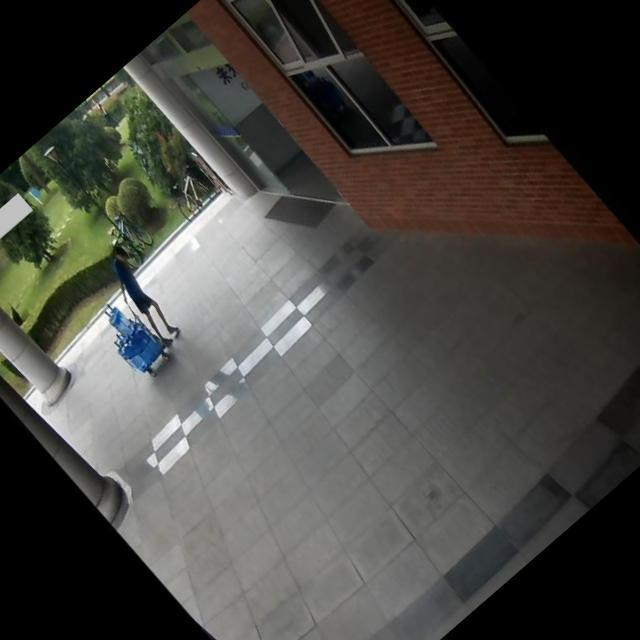person: (81, 230, 200, 358)
